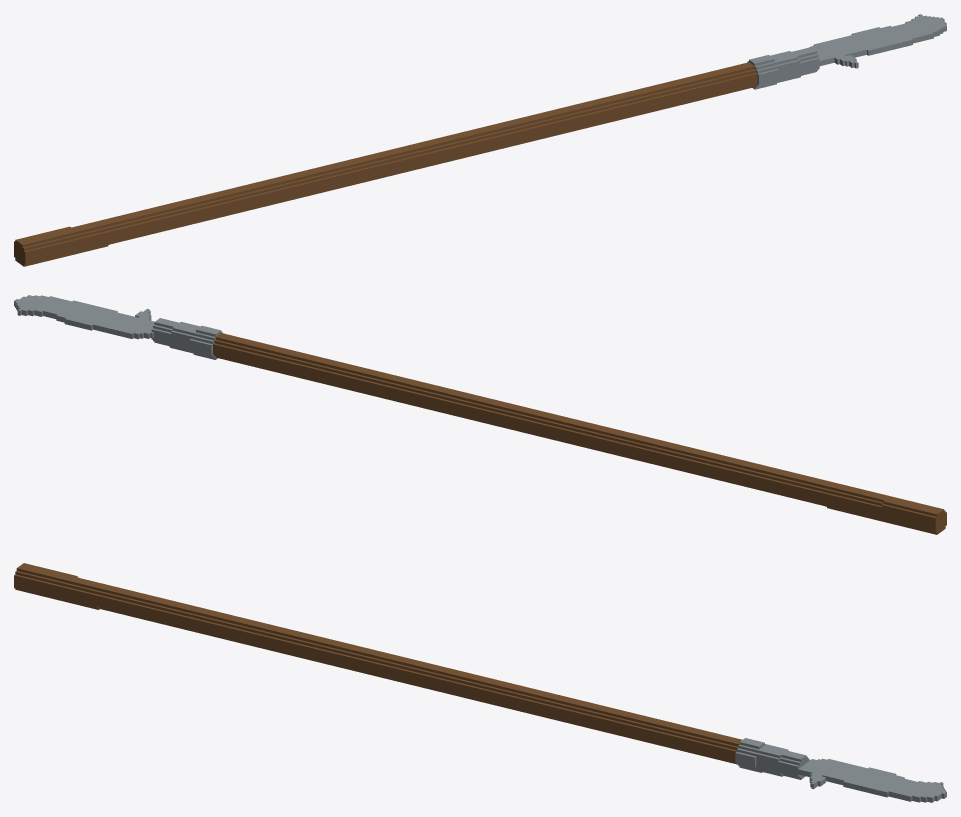
The model's file is brush_axe.glb.
3 renders of one model, top to bottom at view 1: azimuth 30°, elevation 25°; view 2: azimuth 150°, elevation 25°; view 3: azimuth 330°, elevation 25°, orthographic.
Parts seen in each view (by area): view 1: brush_axe:compound; view 2: brush_axe:compound; view 3: brush_axe:compound.
Part boxes in pixels (<box>): brush_axe:compound: <box>14,14,946,266</box>; brush_axe:compound: <box>14,295,946,534</box>; brush_axe:compound: <box>14,563,946,802</box>.
Size of the model in its own units: 1.5 by 0.04 by 0.096.
